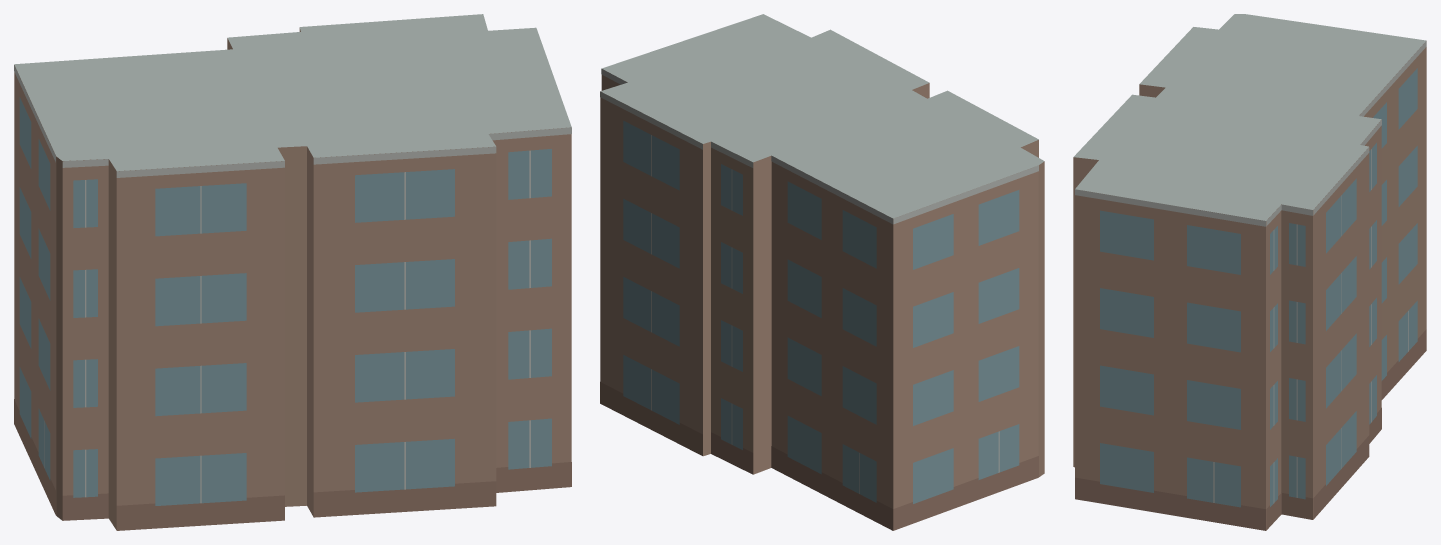
File: survey-upis-32750394.glb
The picture shows the model from 3 angles, left to right: view 1: azimuth 30°, elevation 25°; view 2: azimuth 150°, elevation 25°; view 3: azimuth 270°, elevation 25°; orthographic projection. The views are drawn at different scales.
Visible parts, largest first — view 1: survey-upis-32750394.tmp; view 2: survey-upis-32750394.tmp; view 3: survey-upis-32750394.tmp.
Boxes of the visible parts, bbox=[...] form: survey-upis-32750394.tmp: bbox=[14, 14, 571, 530]; survey-upis-32750394.tmp: bbox=[600, 14, 1044, 530]; survey-upis-32750394.tmp: bbox=[1073, 14, 1426, 530].
Size of the model in its own units: 18.48 by 12.9 by 13.34.
